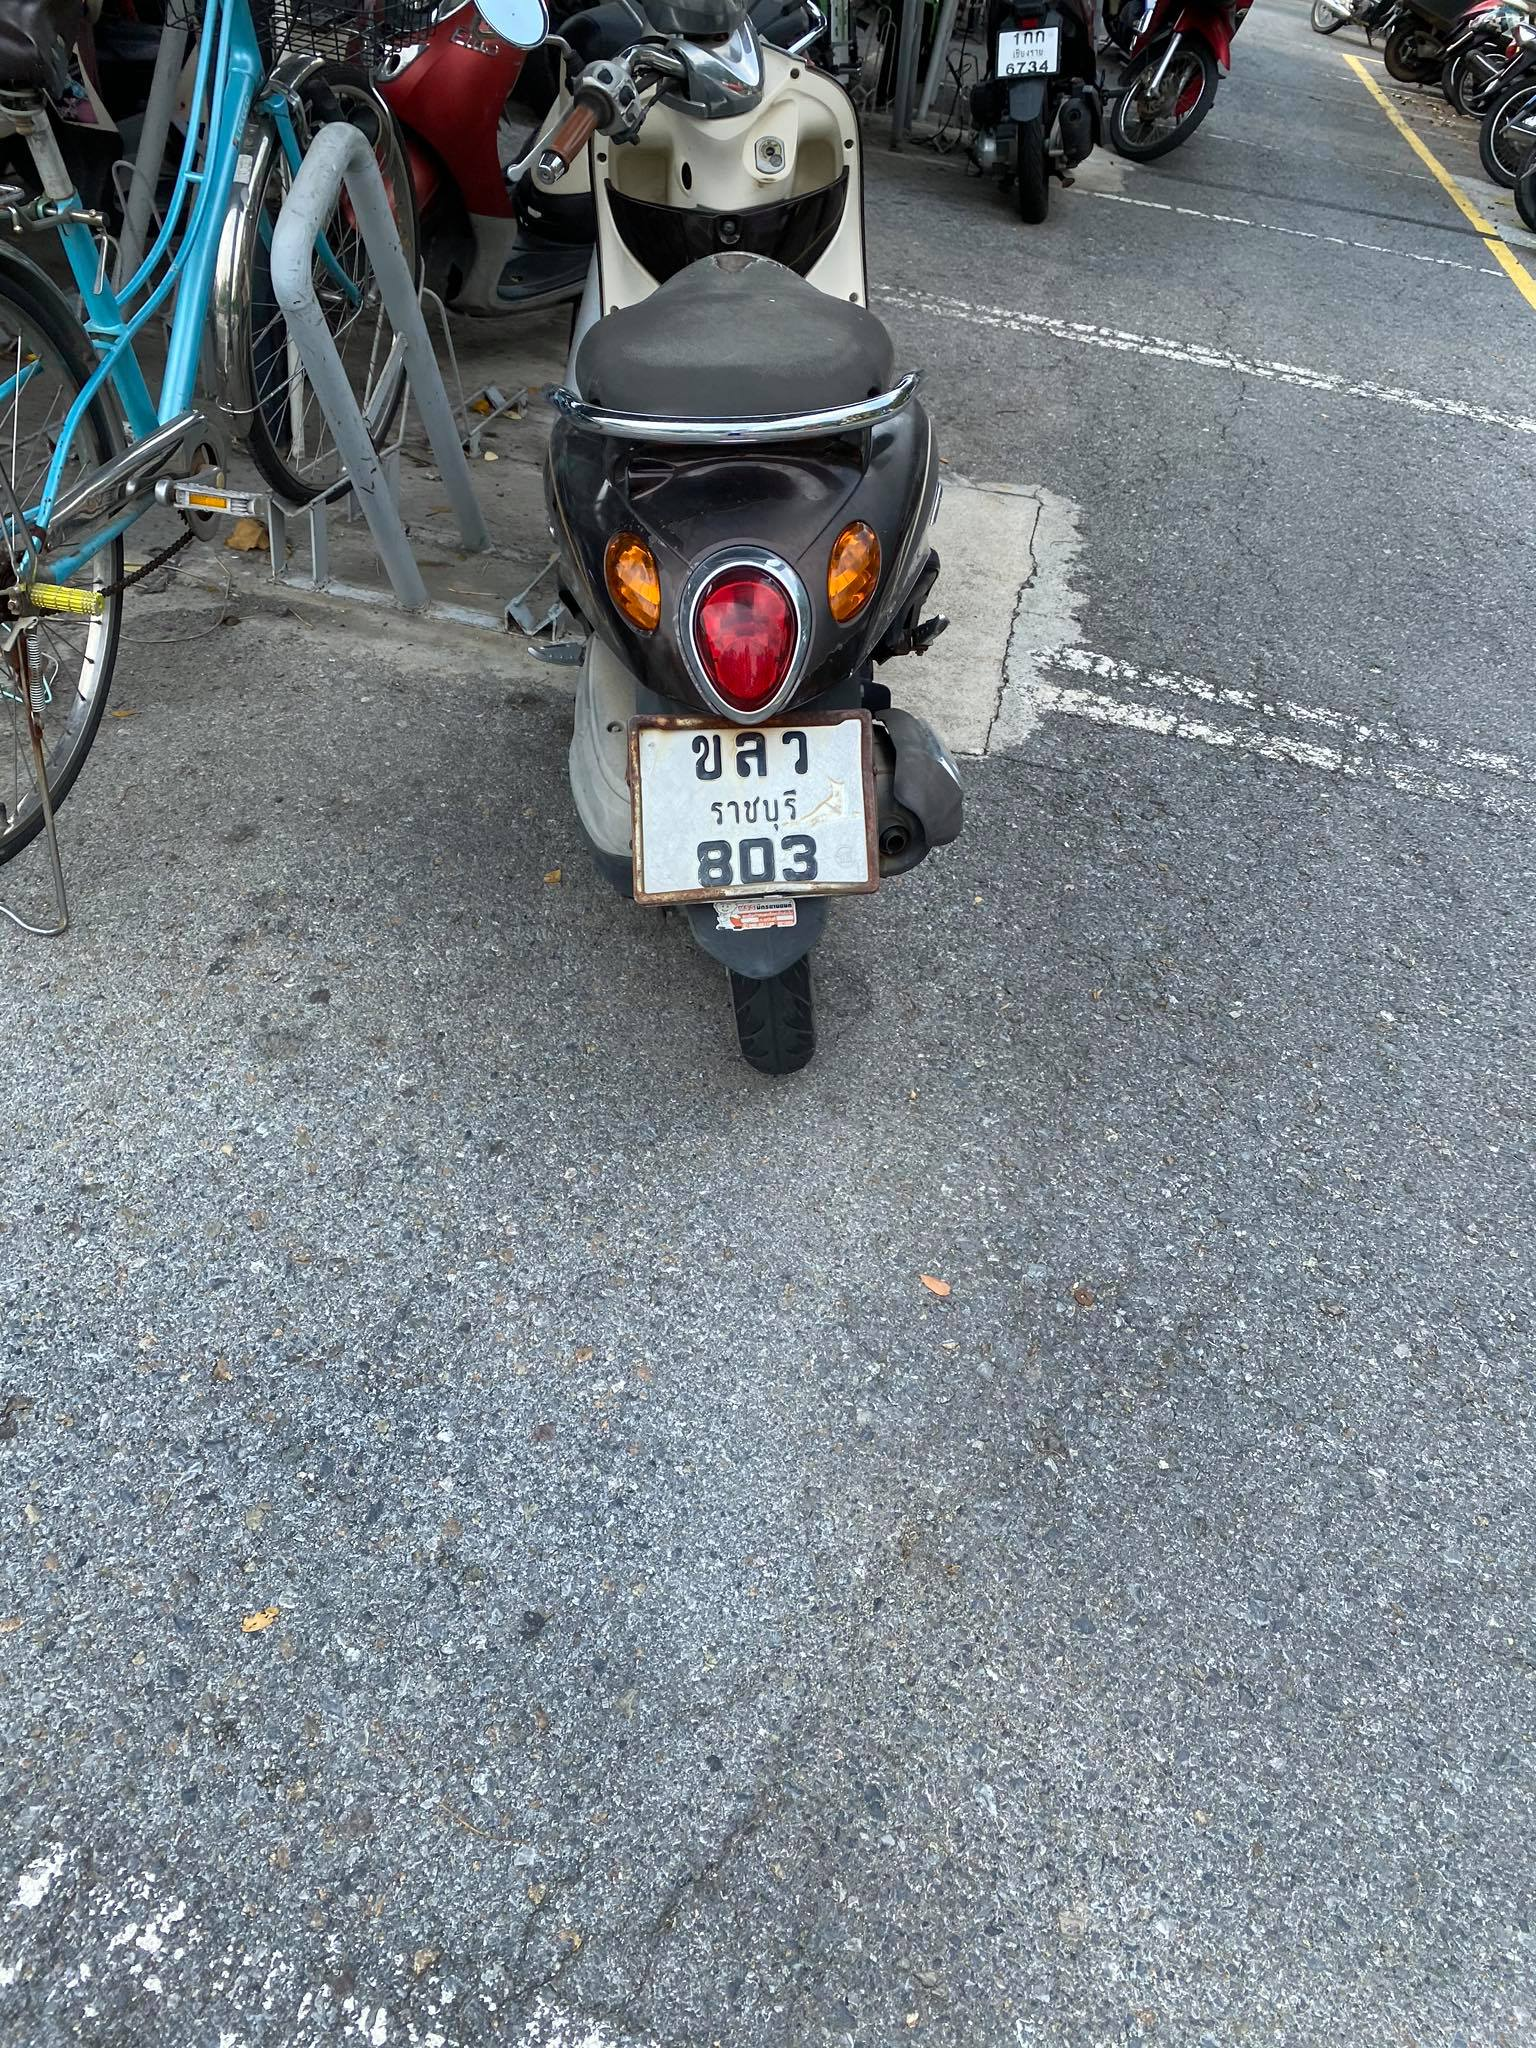line1: (663, 722, 821, 785)
line2: (691, 789, 810, 835)
line3: (660, 835, 854, 892)
